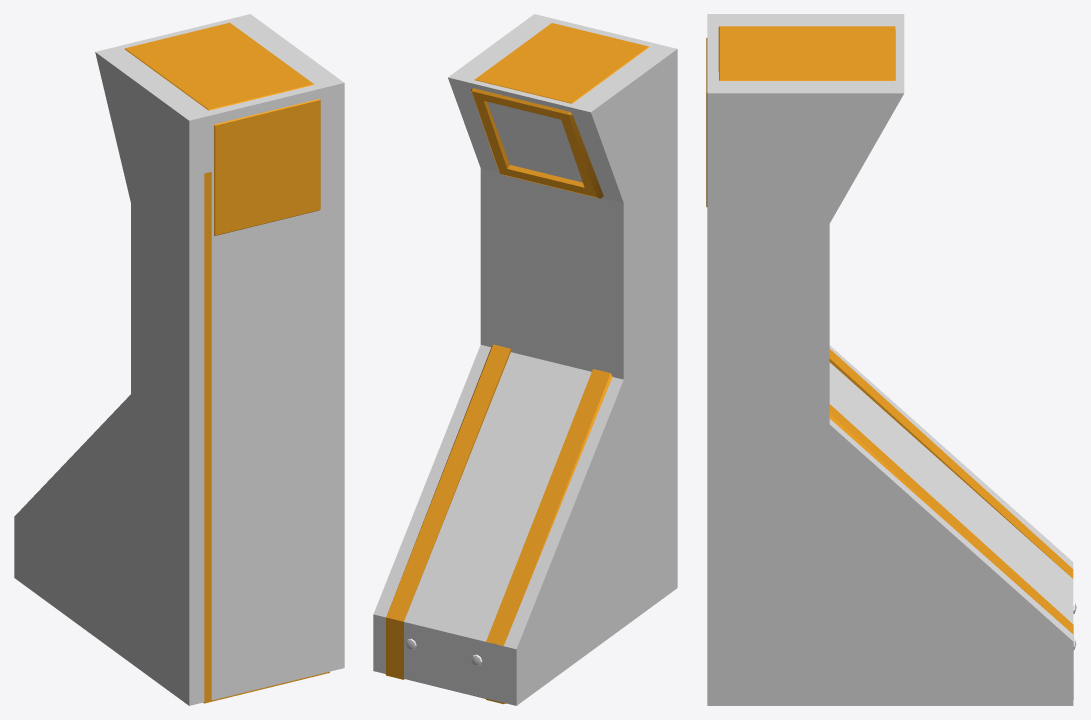
Rendered from Arena_Beam.fbx.
3 views of the same model, side by side, from view 1: azimuth 30°, elevation 25°; view 2: azimuth 150°, elevation 25°; view 3: azimuth 270°, elevation 25° (orthographic). The views are drawn at different scales.
Visible parts, largest first — view 1: Beam_Col, Beam; view 2: Beam_Col, Beam; view 3: Beam_Col, Beam.
Part boxes in pixels (x1=…): Beam_Col: x1=14, y1=14, x2=344, y2=705; Beam: x1=124, y1=22, x2=329, y2=703; Beam_Col: x1=373, y1=14, x2=677, y2=705; Beam: x1=385, y1=23, x2=648, y2=704; Beam_Col: x1=707, y1=14, x2=1073, y2=705; Beam: x1=706, y1=26, x2=1076, y2=699.
Size of the model in its own units: 200 by 723 by 395.
